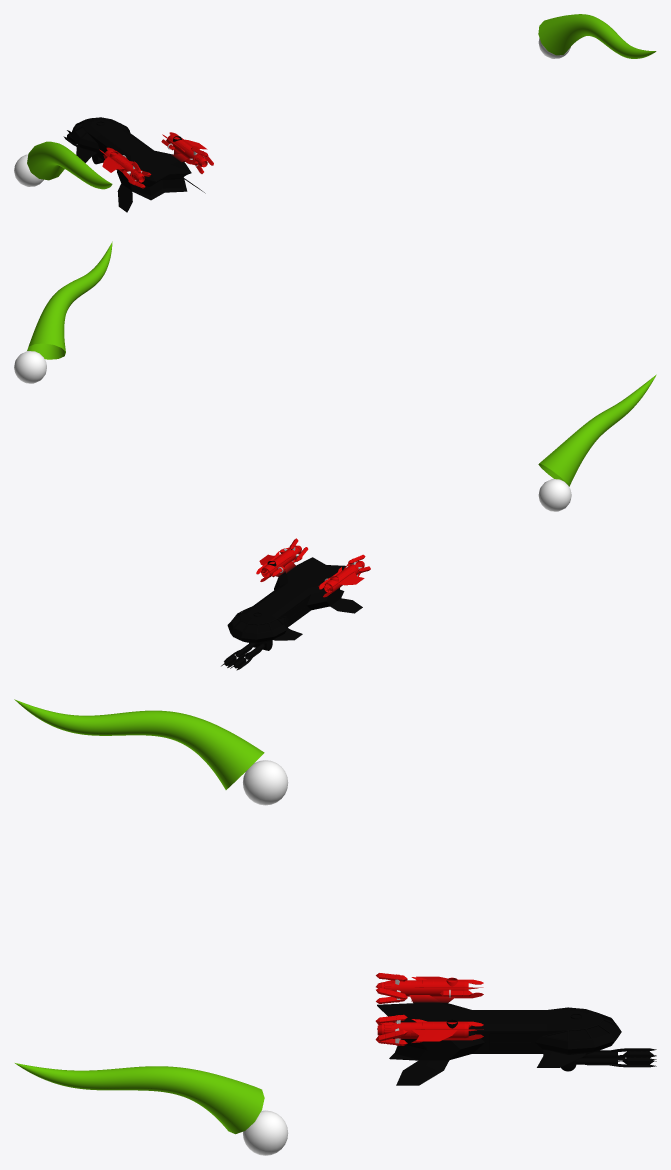
File: Dragon Head.glb
3 renders of one model, top to bottom at view 1: azimuth 30°, elevation 25°; view 2: azimuth 150°, elevation 25°; view 3: azimuth 270°, elevation 25°, orthographic. The views are drawn at different scales.
Parts seen in each view (by area): view 1: Origin Star Ship 001, NurbsPath, Dragon Eye L; view 2: Origin Star Ship 001, NurbsPath, Dragon Eye L; view 3: Origin Star Ship 001, NurbsPath, Dragon Eye L.
Part boxes in pixels (<box>): Origin Star Ship 001: <box>63,117,213,212</box>; NurbsPath: <box>27,14,656,189</box>; Dragon Eye L: <box>14,38,570,186</box>; Origin Star Ship 001: <box>221,538,370,670</box>; NurbsPath: <box>27,241,656,486</box>; Dragon Eye L: <box>14,351,571,511</box>; Origin Star Ship 001: <box>375,973,656,1085</box>; NurbsPath: <box>14,699,264,1134</box>; Dragon Eye L: <box>243,760,288,1155</box>.
Size of the model in its own units: 211 by 63.27 by 155.
